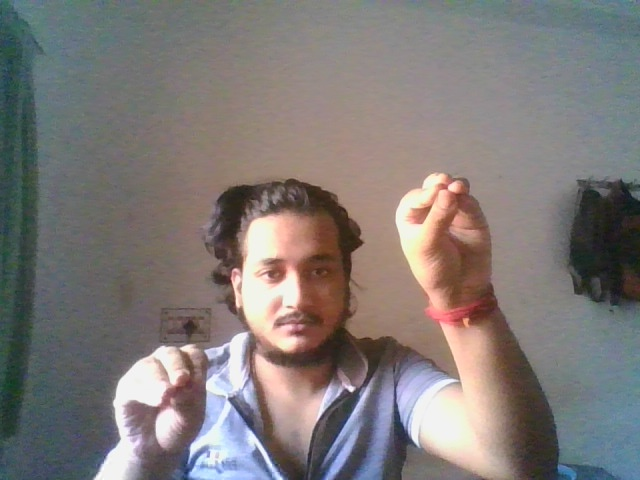Mouth: (394, 172, 493, 293), (112, 342, 208, 450)
